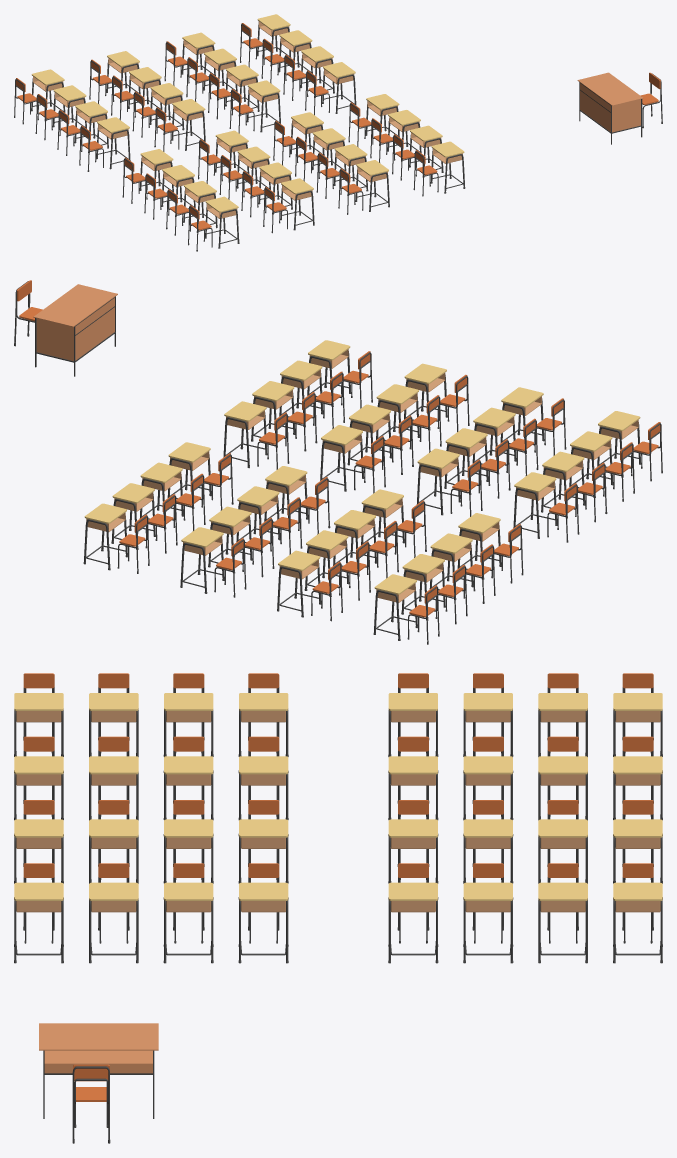
File: sillas con textura.fbx
3 renders of one model, top to bottom at view 1: azimuth 30°, elevation 25°; view 2: azimuth 150°, elevation 25°; view 3: azimuth 270°, elevation 25°, orthographic. The views are drawn at different scales.
Parts seen in each view (by area): view 1: Mesa N41, Mesa N40.021, Mesa N40.033, Mesa N40.025, Mesa N40.029, Mesa N40.013, Mesa N40.009, Mesa N40.005, Mesa N40.017, Mesa N40.008, Mesa N40.004, Mesa N40.028 (+54 smaller); view 2: Mesa N41, Mesa N40.010, Mesa N40.014, Mesa N40.002, Mesa N40.006, Mesa N40.022, Mesa N40.030, Mesa N40.026, Mesa N40.018, Mesa N40.003, Mesa N40.023, Mesa N40.011 (+54 smaller); view 3: Mesa N41, Mesa N40.016, Mesa N40.031, Mesa N40.014, Mesa N40.033, Mesa N40.015, Mesa N40.032, Mesa N40.017, Mesa N40.030, Mesa N40.012, Mesa N40.027, Mesa N40.004 (+28 smaller).
Part boxes in pixels (x1,y1,x2,y2): Mesa N41: (577,72,643,144); Mesa N40.021: (205,196,239,248); Mesa N40.033: (430,141,465,193); Mesa N40.025: (280,178,314,230); Mesa N40.029: (355,160,389,211); Mesa N40.013: (246,80,280,132); Mesa N40.009: (171,99,205,150); Mesa N40.005: (96,117,130,169); Mesa N40.017: (322,62,356,113); Mesa N40.008: (149,83,184,134); Mesa N40.004: (74,101,108,153); Mesa N40.028: (333,144,368,195); Mesa N41: (33,284,117,376); Mesa N40.010: (180,527,224,593); Mesa N40.014: (83,503,127,570); Mesa N40.002: (373,574,417,640); Mesa N40.006: (277,550,321,617); Mesa N40.022: (416,448,460,515); Mesa N40.030: (223,401,267,468); Mesa N40.026: (320,425,364,491); Mesa N40.018: (513,472,557,538); Mesa N40.003: (401,554,445,620); Mesa N40.023: (444,428,488,494); Mesa N40.011: (208,506,252,573); Mesa N41: (39,1023,158,1118); Mesa N40.016: (463,882,513,963); Mesa N40.031: (163,882,213,963); Mesa N40.014: (613,882,662,963); Mesa N40.033: (14,882,63,963); Mesa N40.015: (538,882,587,963); Mesa N40.032: (89,882,138,963); Mesa N40.017: (388,882,438,963); Mesa N40.030: (238,882,288,963); Mesa N40.012: (463,819,513,899); Mesa N40.027: (163,819,213,899); Mesa N40.004: (463,693,513,772).
Size of the model in its own units: 1277 by 113 by 867.
